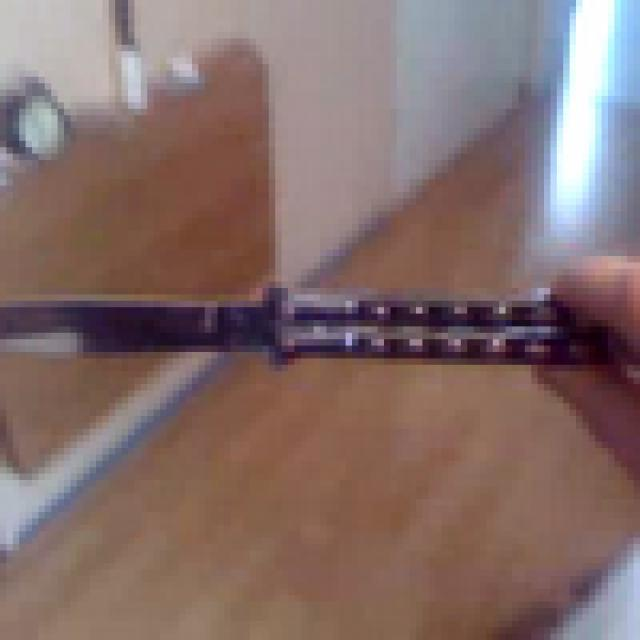knife: (0, 212, 640, 434)
